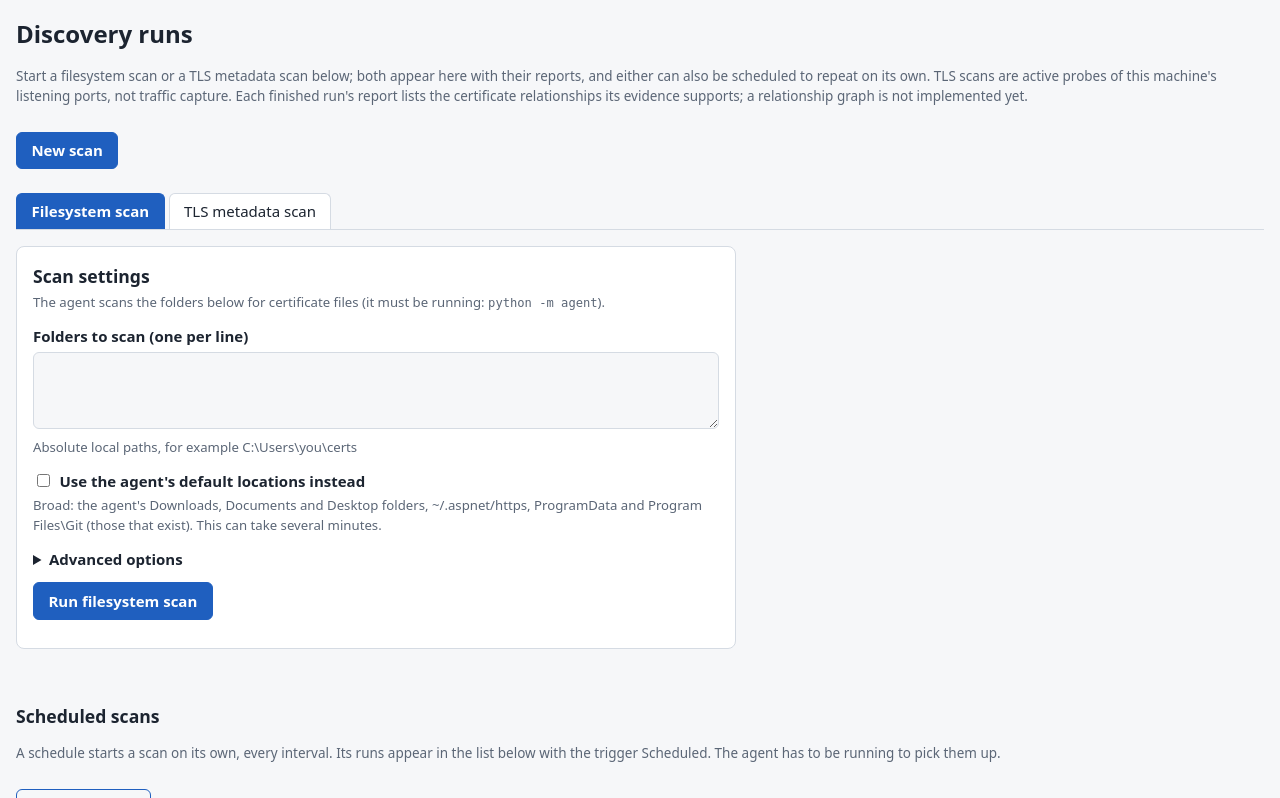
it: the notice about a newly created run follows that run › moves from queued to running to completed as the list refreshes
Type "C:\\certs" into the text box labelled "Folders to scan (one per line)" at [376, 390], box x1=33 y1=352 x2=719 y2=429
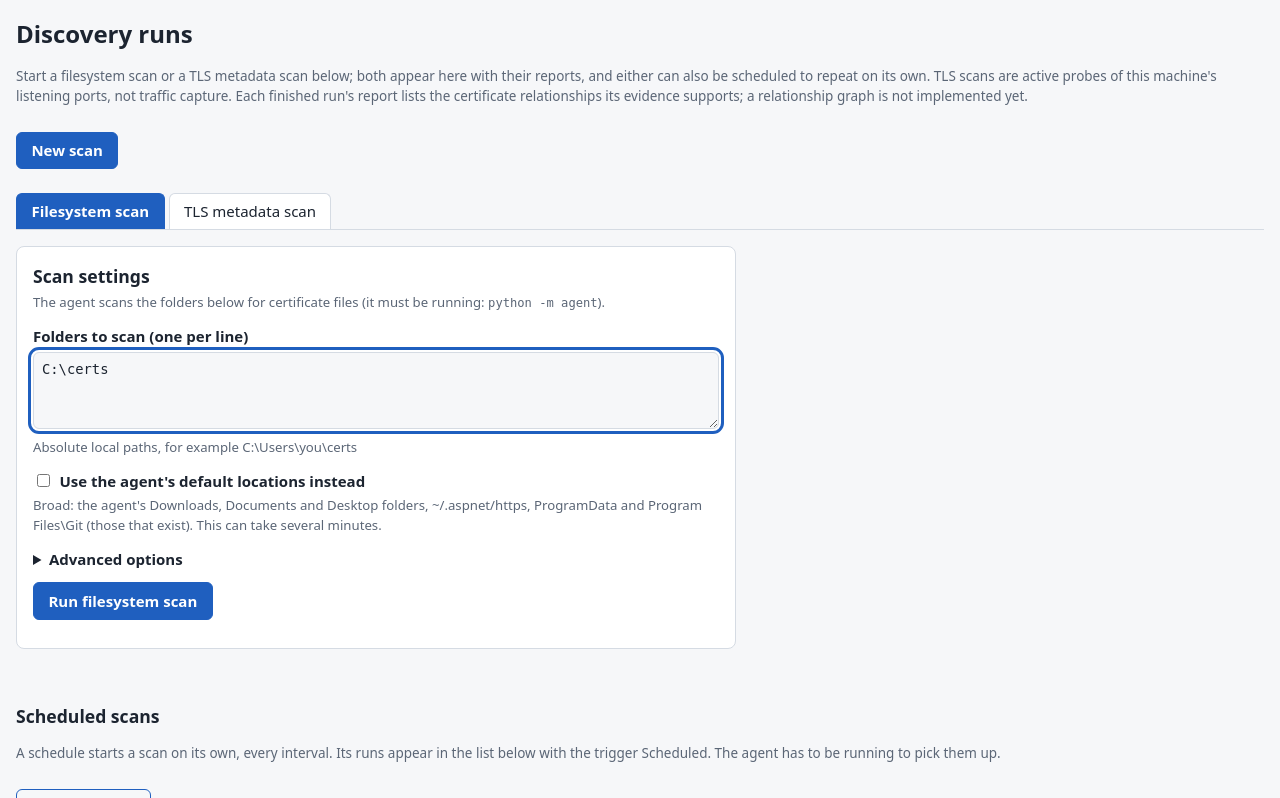
Click the button "Run filesystem scan" at [123, 601], box x1=33 y1=582 x2=213 y2=620
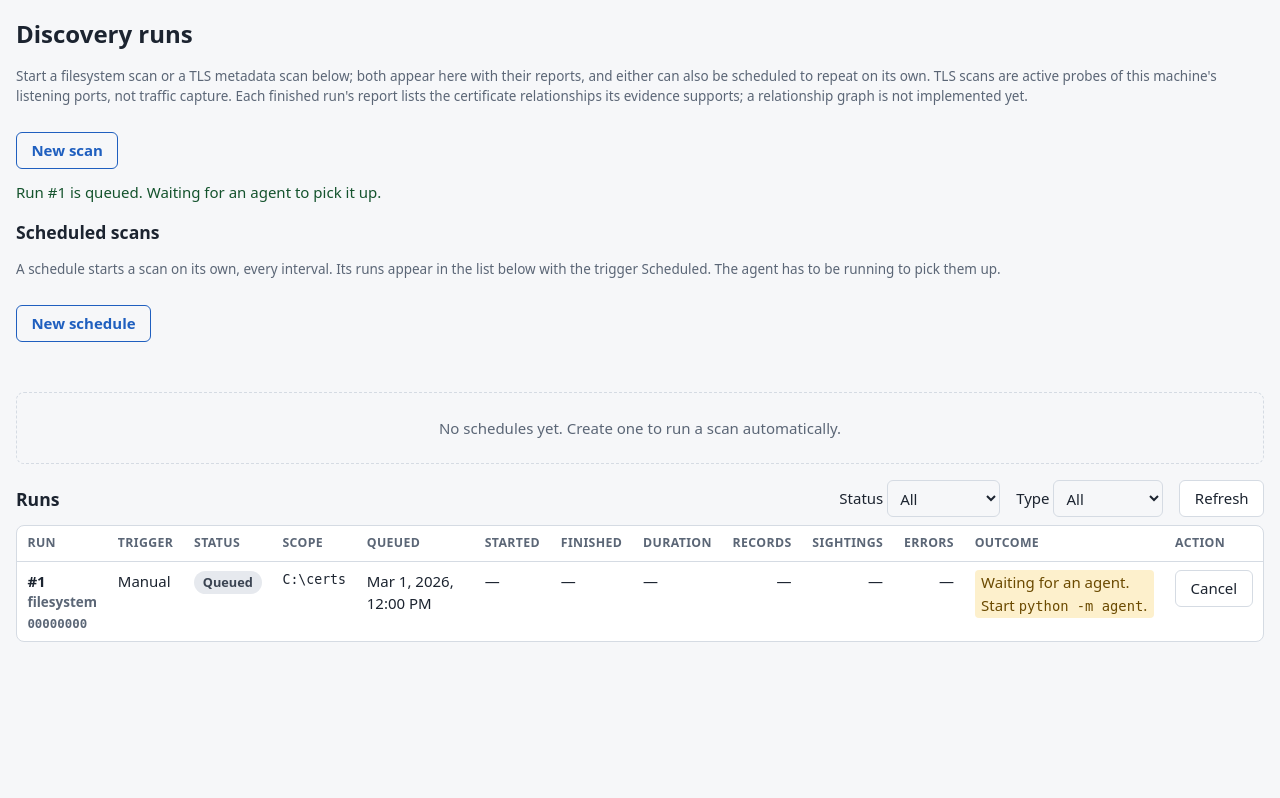
Check: the text "Run #1 is queued. Waiting for an agent to pick it up." is shown, box x1=16 y1=182 x2=381 y2=202
Click the button "Refresh" at [1222, 499], box x1=1180 y1=480 x2=1264 y2=517
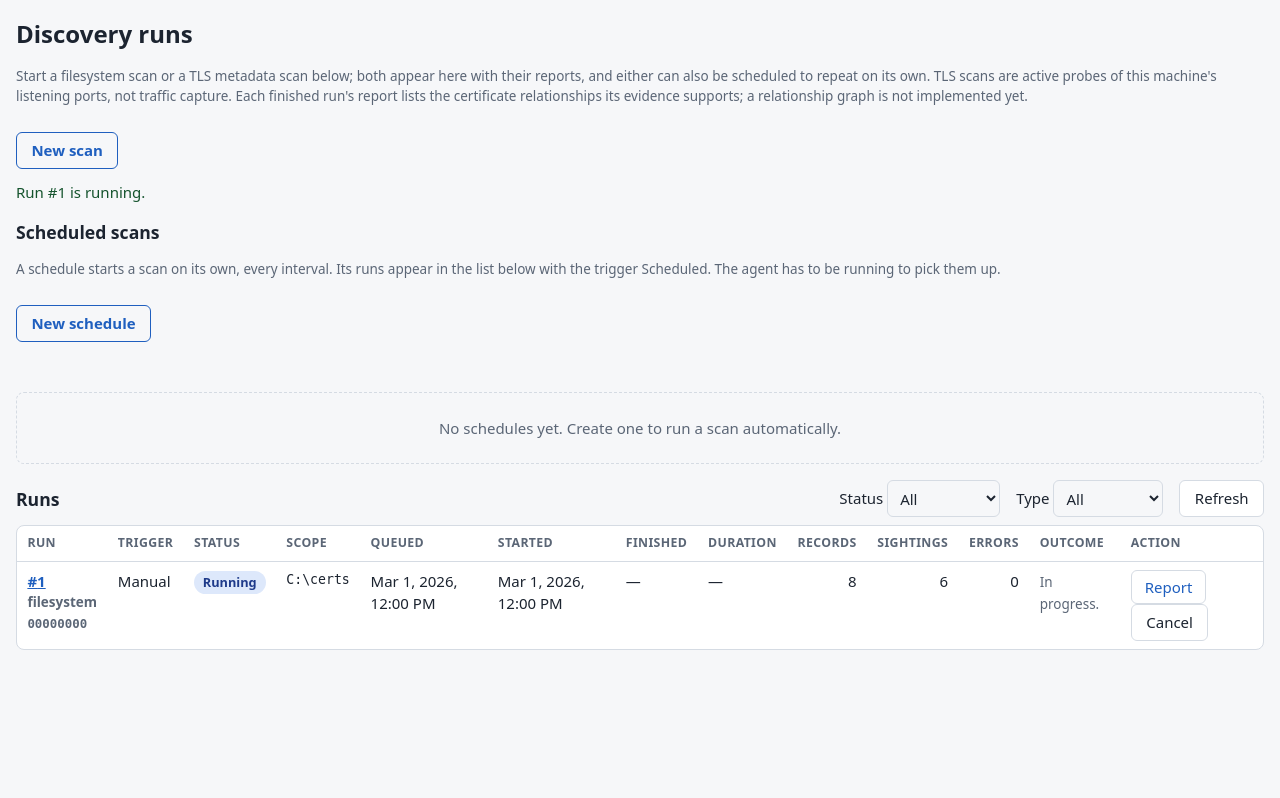
Check: the text "Run #1 is running." is shown, box x1=16 y1=182 x2=145 y2=202
Check: the text "is queued" is gone
Click the button "Refresh" at [1222, 499], box x1=1180 y1=480 x2=1264 y2=517
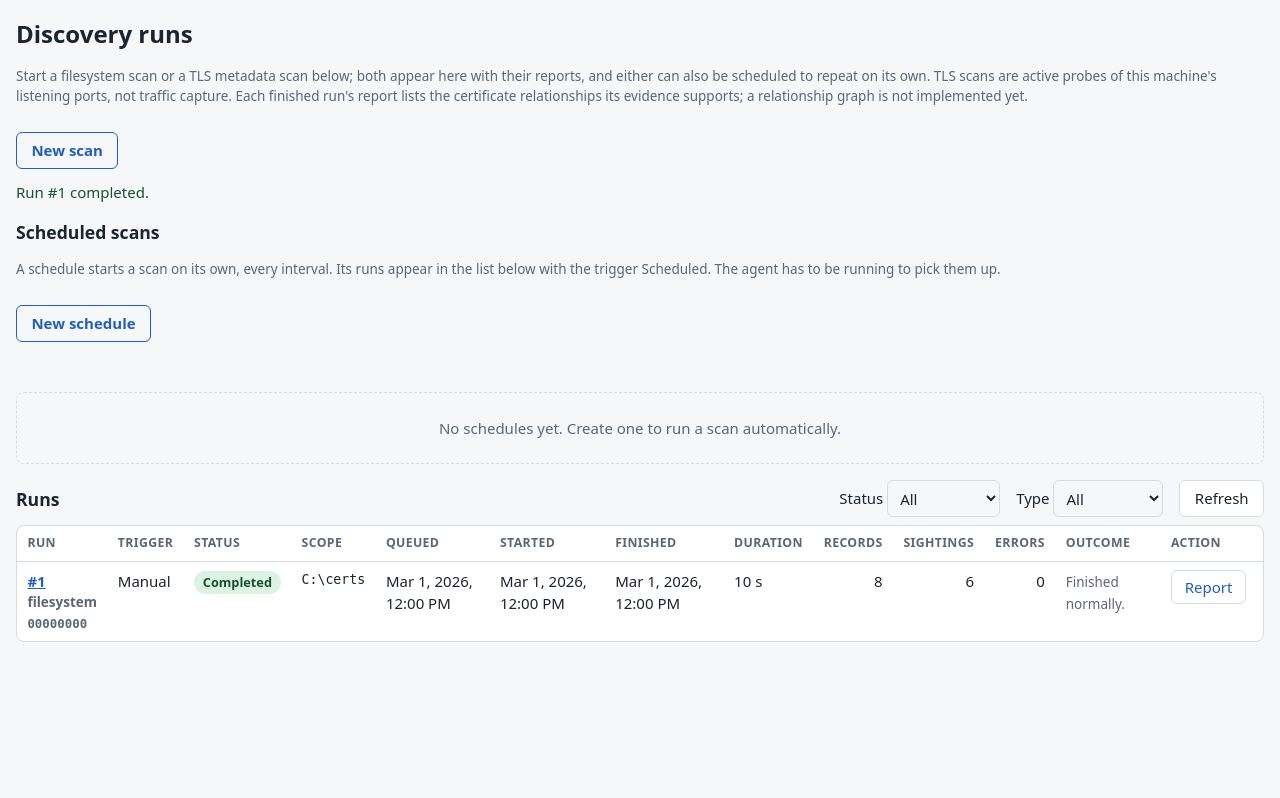
Check: the text "Run #1 completed." is shown, box x1=16 y1=182 x2=149 y2=202
Check: the text "is running" is gone
